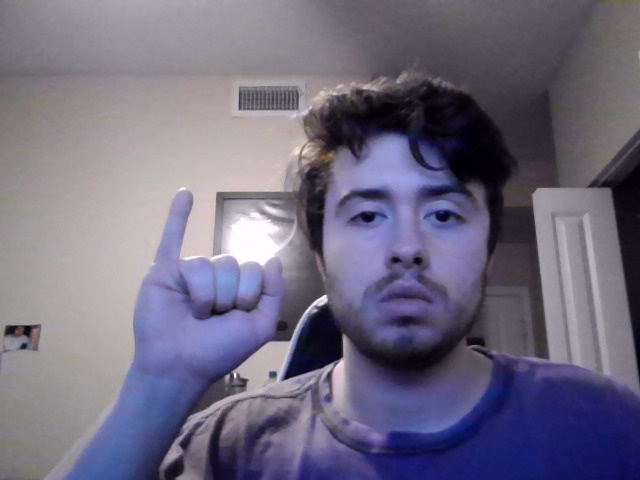i: (133, 187, 286, 394)
